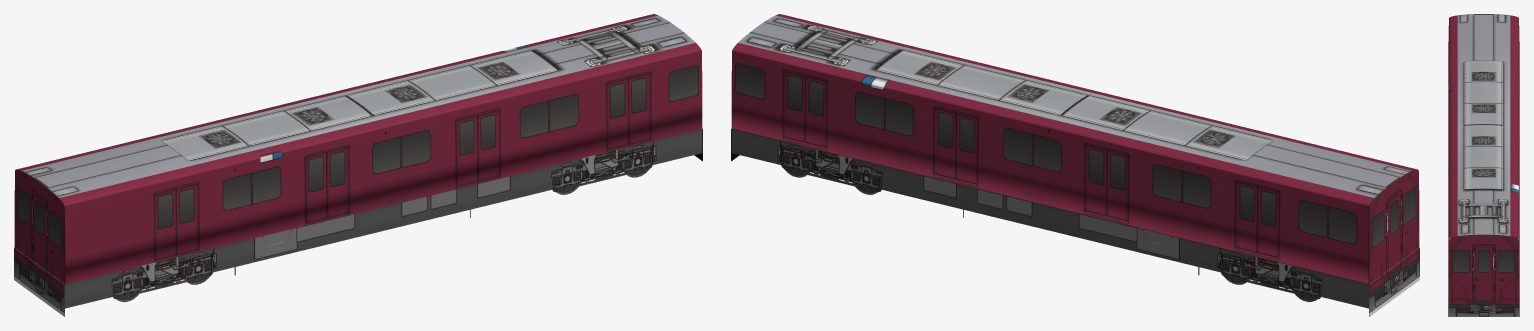
The model's file is car2.glb.
3 views of the same model, side by side, from view 1: azimuth 30°, elevation 25°; view 2: azimuth 150°, elevation 25°; view 3: azimuth 270°, elevation 25° (orthographic). The views are drawn at different scales.
Parts seen in each view (by area): view 1: car2; view 2: car2; view 3: car2.
Boxes of the visible parts, bbox=[...] form: car2: bbox=[14, 14, 702, 316]; car2: bbox=[731, 14, 1419, 316]; car2: bbox=[1448, 14, 1519, 316].
Bounding box in the file's own units: 20.03 × 3.47 × 2.74.
9 materials, 8 textured.
